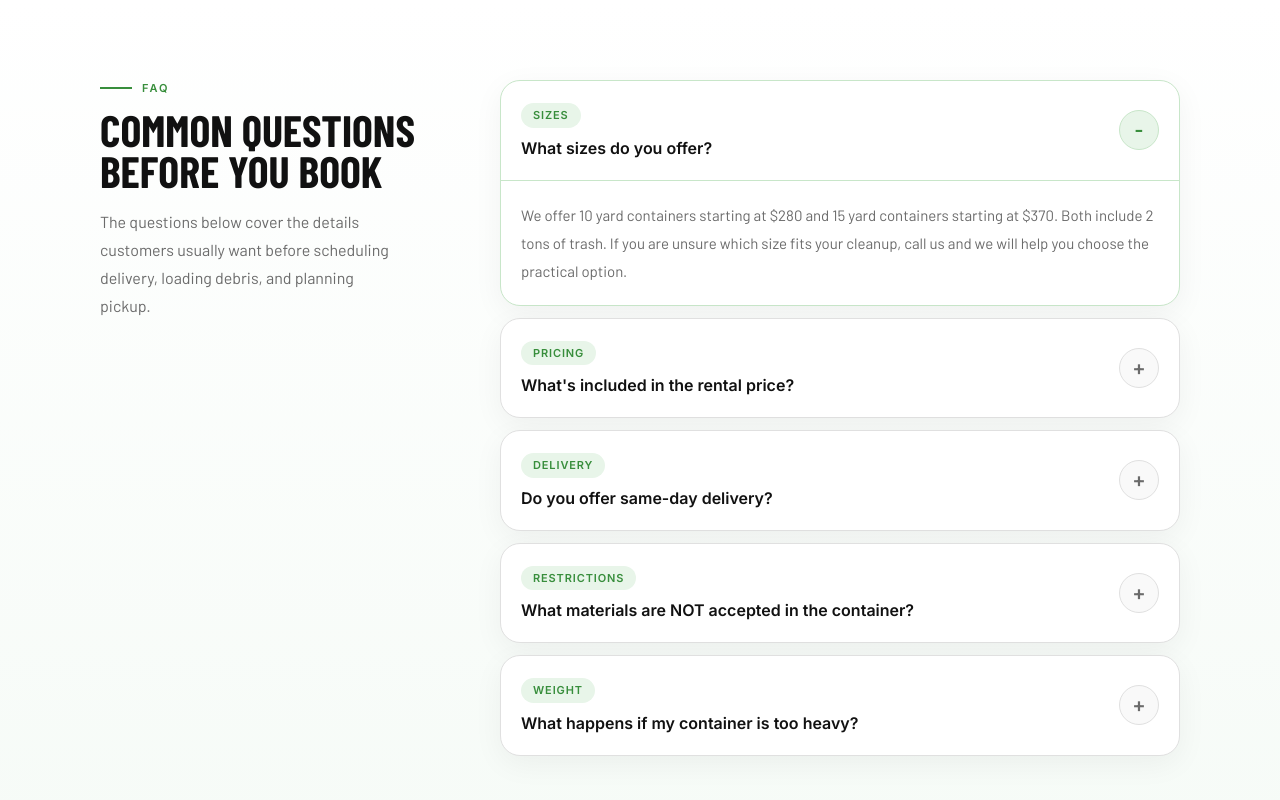
Test: FAQ › collapses the active question when clicked again
This screenshot has width=1280, height=800.
Click the button "Sizes What sizes do you offer? -": (551, 115) [501,81,1179,180]
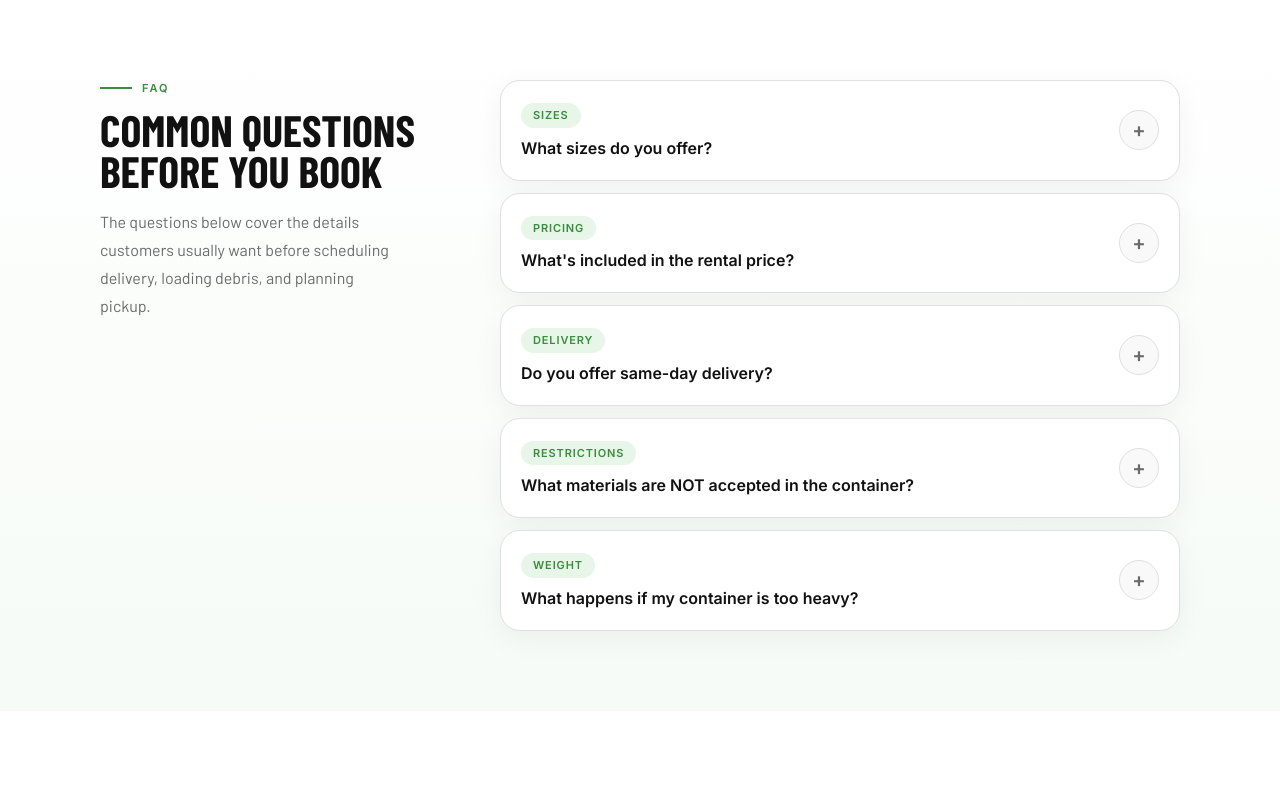
Check: the button "Sizes What sizes do you offer? +" is collapsed, box [501,81,1179,180]
